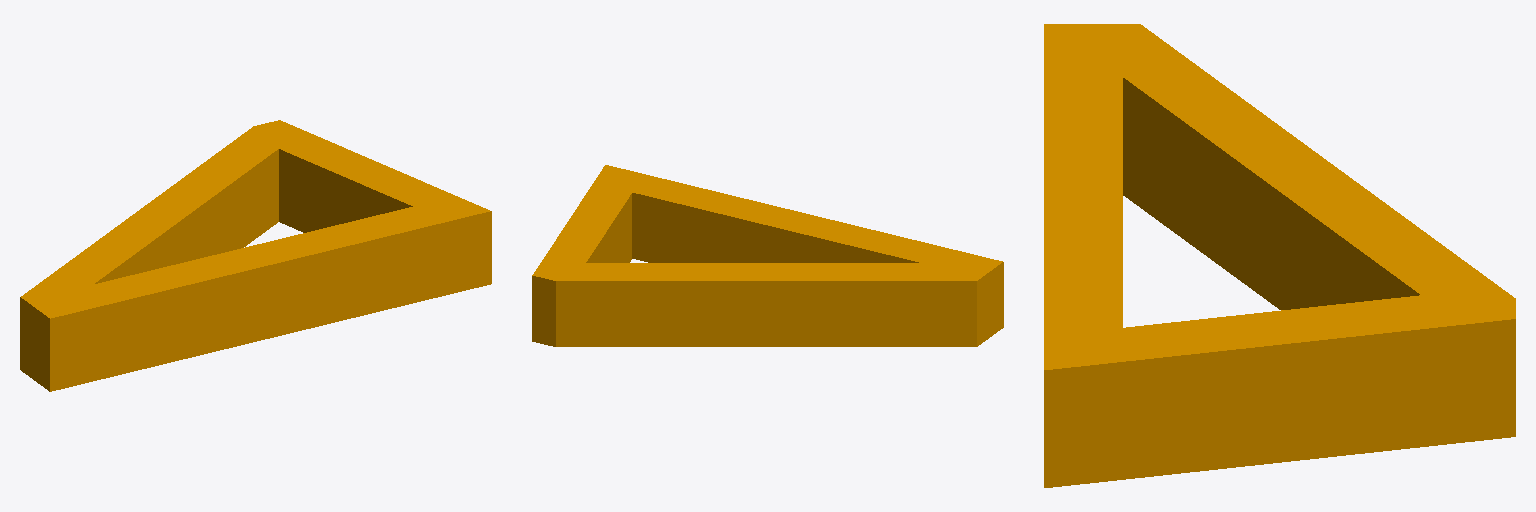
robot.urdf — isgefa:
<?xml version="1.0" ?>
<robot name="isgefa">
    <link name="base_link">
        <inertial>
            <origin xyz="0.00567340029 -0.0110436554 0.00999999978" rpy="0 0 0" />
            <mass value="0.0292652461" />
            <inertia ixx="1.35450508e-05" ixy="-7.05260379e-06" ixz="1.74121519e-21" iyy="3.81354496e-05" iyz="-1.39297215e-21" izz="4.97294841e-05" />
        </inertial>
        <visual name="visual">
            <origin xyz="0 0 0" rpy="0 0 0" />
            <geometry>
                <mesh filename="meshes/visual.obj" scale="1 1 1" />
            </geometry>
        </visual>
        <collision name="side_E">
            <origin xyz="0 0 0" rpy="0 0 0" />
            <geometry>
                <mesh filename="meshes/collision/side_E.obj" scale="1 1 1" />
            </geometry>
        </collision>
        <collision name="side_C">
            <origin xyz="0 0 0" rpy="0 0 0" />
            <geometry>
                <mesh filename="meshes/collision/side_C.obj" scale="1 1 1" />
            </geometry>
        </collision>
        <collision name="side_G">
            <origin xyz="0 0 0" rpy="0 0 0" />
            <geometry>
                <mesh filename="meshes/collision/side_G.obj" scale="1 1 1" />
            </geometry>
        </collision>
    </link>
</robot>

--- Facts derived from the render (not from the file) ---
Views: 3 orthographic renders of the robot side by side, from view 1: azimuth 30°, elevation 25°; view 2: azimuth 150°, elevation 25°; view 3: azimuth 270°, elevation 25°.
Model isgefa with 1 links and 0 joints (none), rooted at base_link, posed all joints at 0.
Visible links, largest first — view 1: base_link; view 2: base_link; view 3: base_link.
Boxes of the visible links, x1=… form: base_link: x1=20, y1=120, x2=491, y2=391; base_link: x1=532, y1=165, x2=1003, y2=346; base_link: x1=1044, y1=24, x2=1515, y2=487.
Size in the robot's own frame: 0.1261 by 0.0724 by 0.02 metres.
Meshes: 1 distinct files referenced, 1 mesh visuals loaded (1 OBJ).
